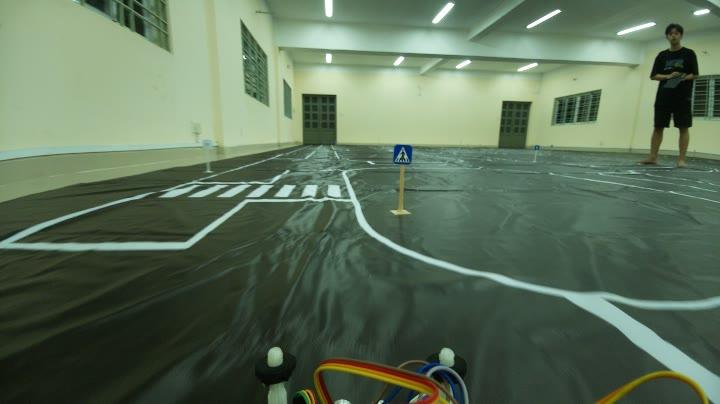crosswalk: (388, 142, 420, 172)
